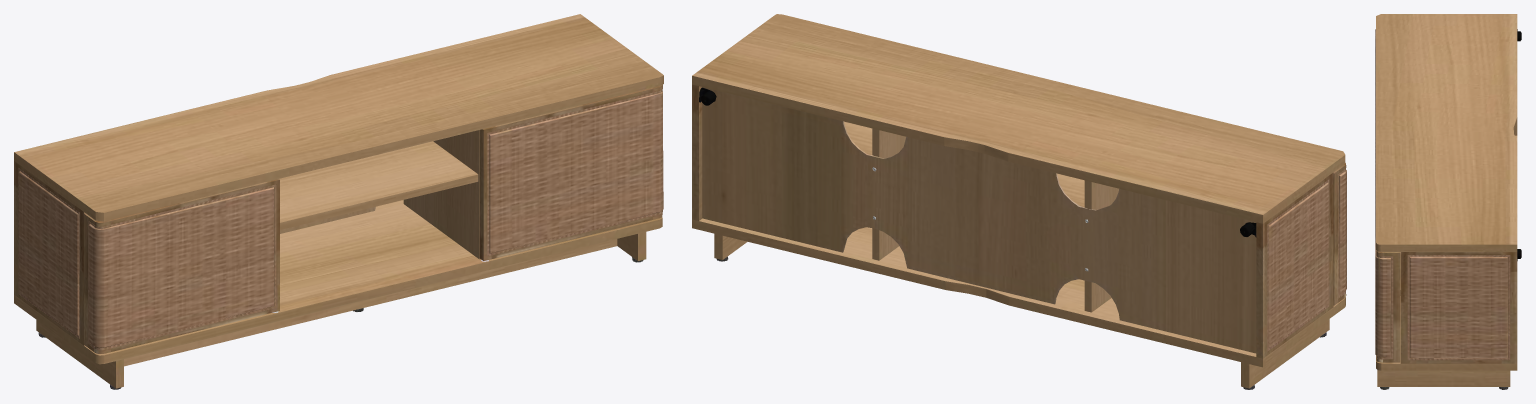
File: 03 - FRYKSÅS TV bench - rattan 157x41x49 cm.glb
3 renders of one model, left to right at view 1: azimuth 30°, elevation 25°; view 2: azimuth 150°, elevation 25°; view 3: azimuth 270°, elevation 25°, orthographic. The views are drawn at different scales.
Parts seen in each view (by area): view 1: 80574099; view 2: 80574099; view 3: 80574099.
Part boxes in pixels (<box>): 80574099: <box>14,14,663,389</box>; 80574099: <box>692,14,1346,389</box>; 80574099: <box>1375,14,1521,389</box>.
Bounding box in the file's own units: 1.58 × 0.4852 × 0.4211.
1 material, 1 textured.
